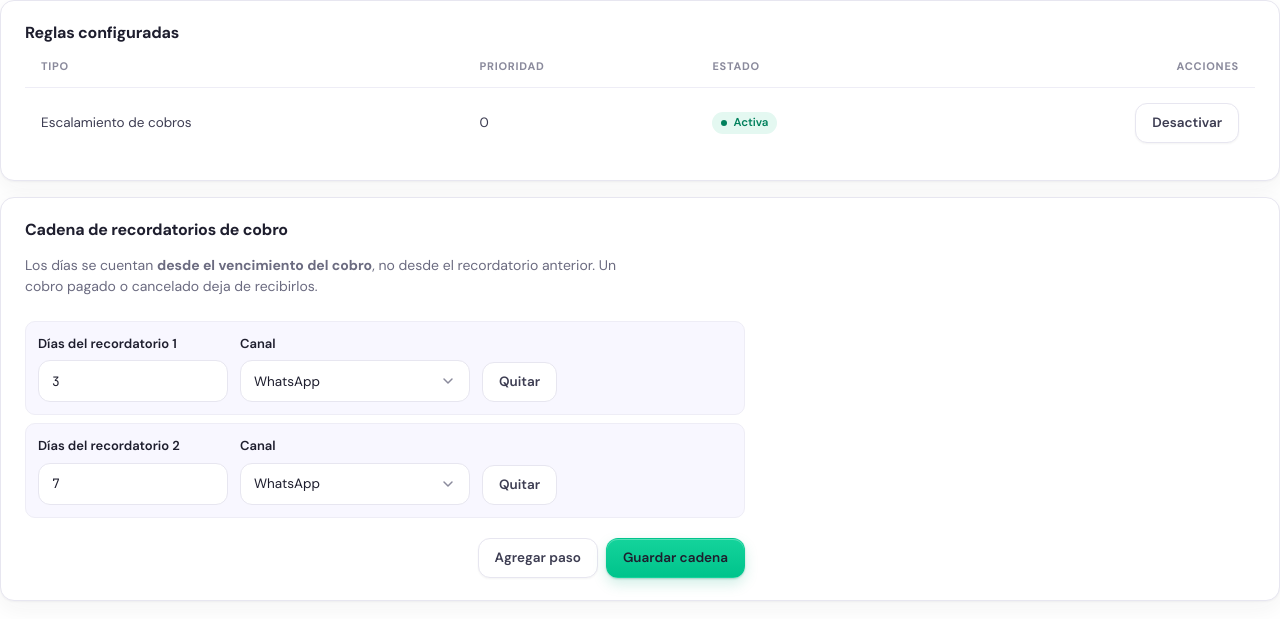
Scenario: PAN-CFG-RN › desactiva en vez de eliminar (RN-04)
Click the button "Desactivar": (1187, 123) [1135,103,1239,143]
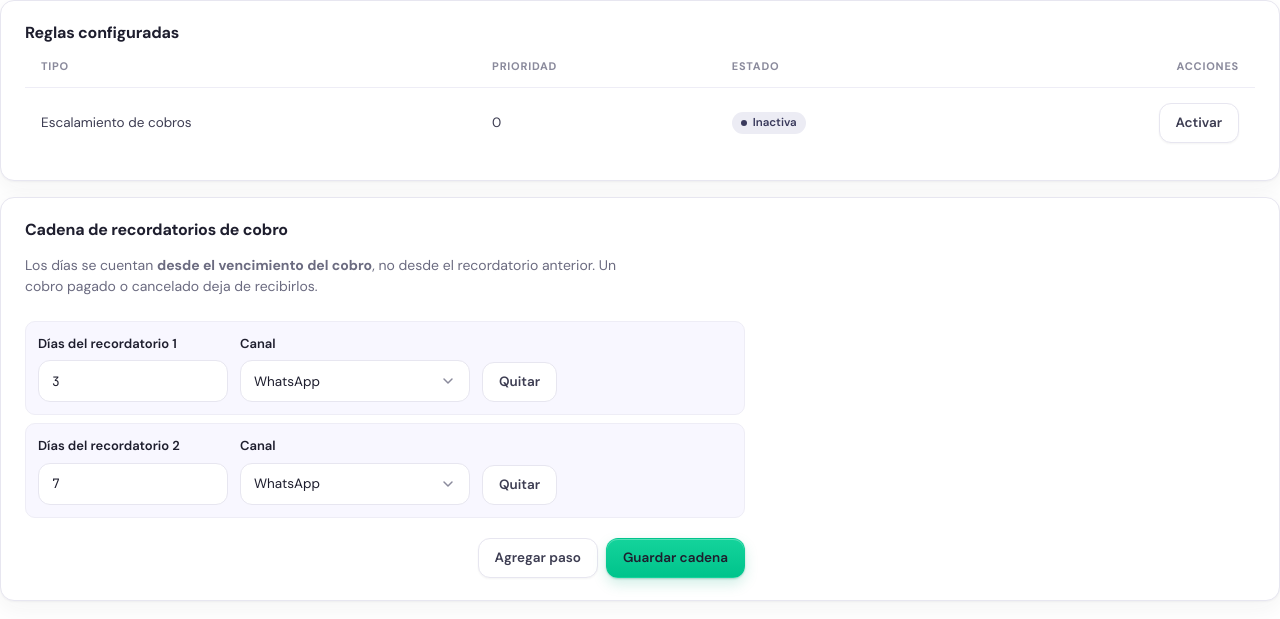
Result: the text "Inactiva" is shown at [732,112,806,134]
